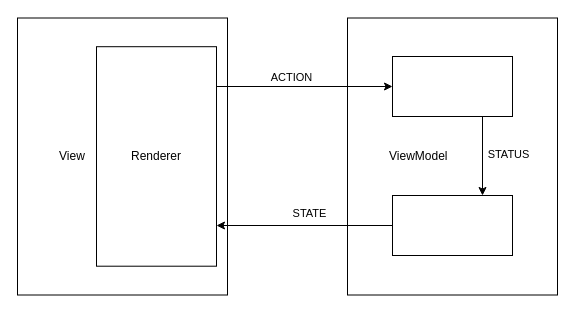
The diagram is 575 pixels wide and 312 high, and some of its shapes have lost their labels. Here are the shapes that lost their labels. From the top down, the box of each, then its label:
(392, 56, 512, 116): Transformer
(392, 194, 512, 256): Reducer
